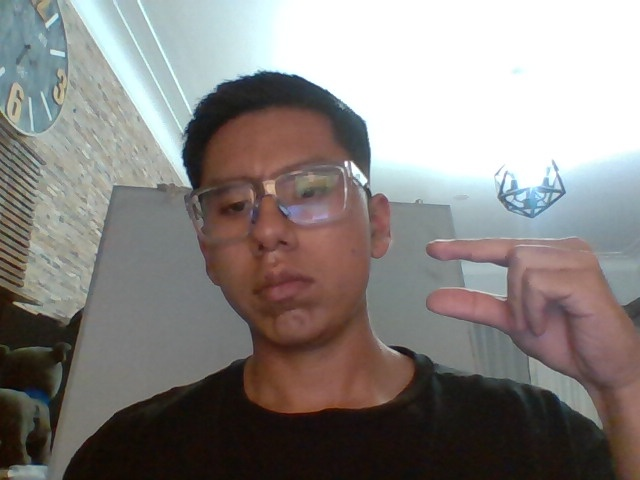No: (420, 237, 640, 389)
